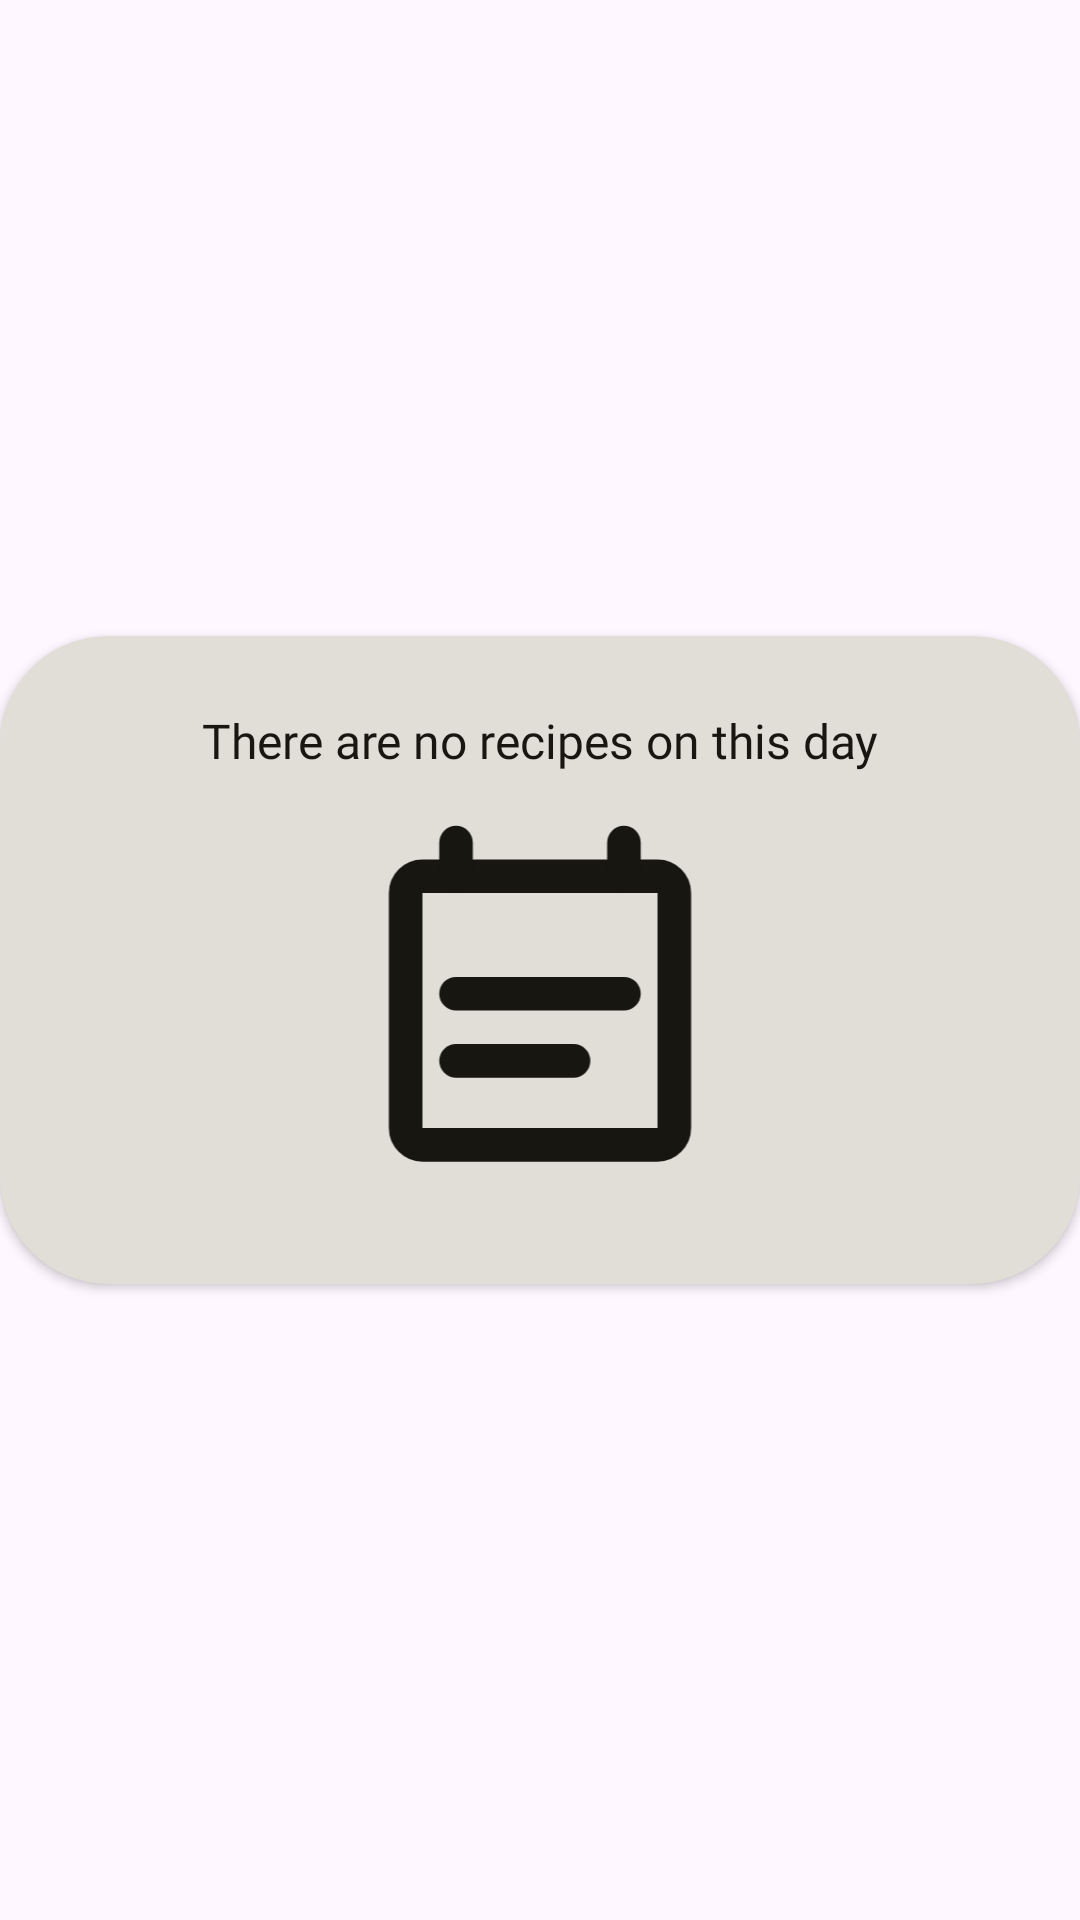

Screen size 1080px x 1920px. Icon name, then its box in pixels as (x1, y1, x2, y2):
calendar empty: (388, 825, 692, 1162)
